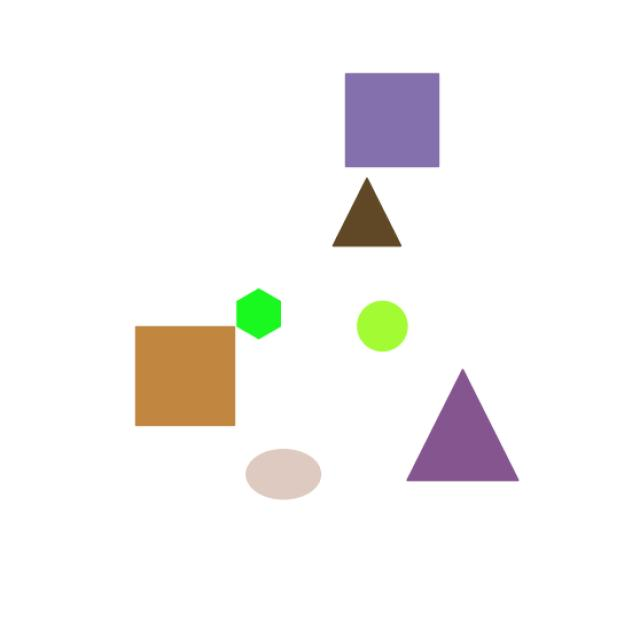Circle: (346, 291, 430, 362)
Hexagon: (218, 280, 302, 344)
Oval: (234, 435, 332, 504)
Triangle: (402, 348, 526, 501), (334, 172, 413, 250)
square: (129, 312, 248, 435), (335, 56, 456, 176)
